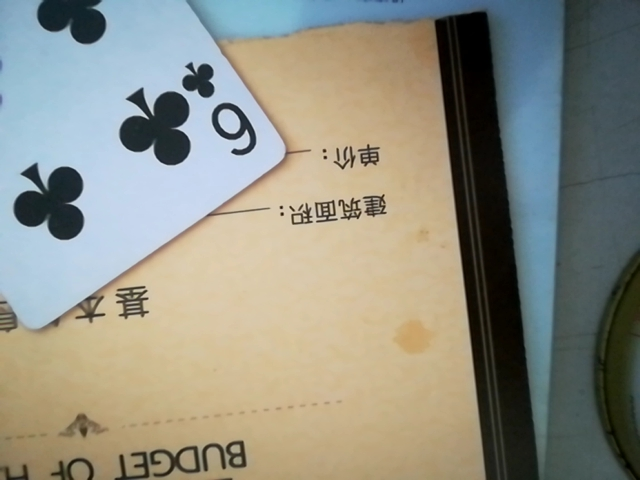mh 6: (0, 0, 284, 336)
